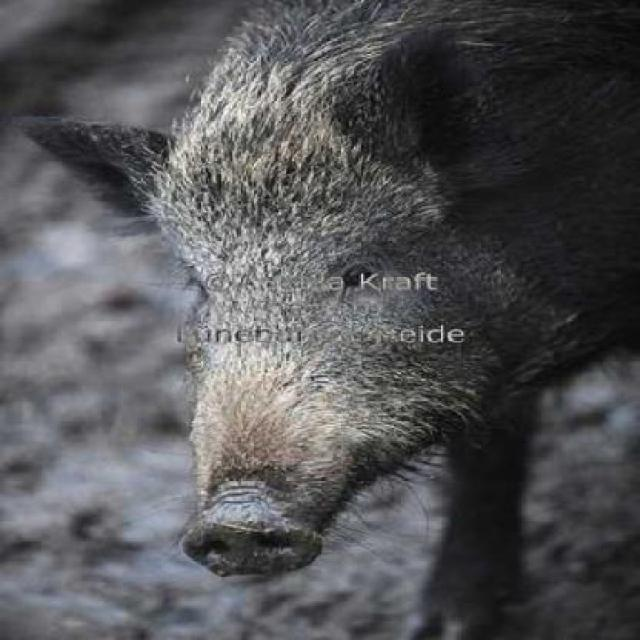Boar: (67, 0, 640, 598)
